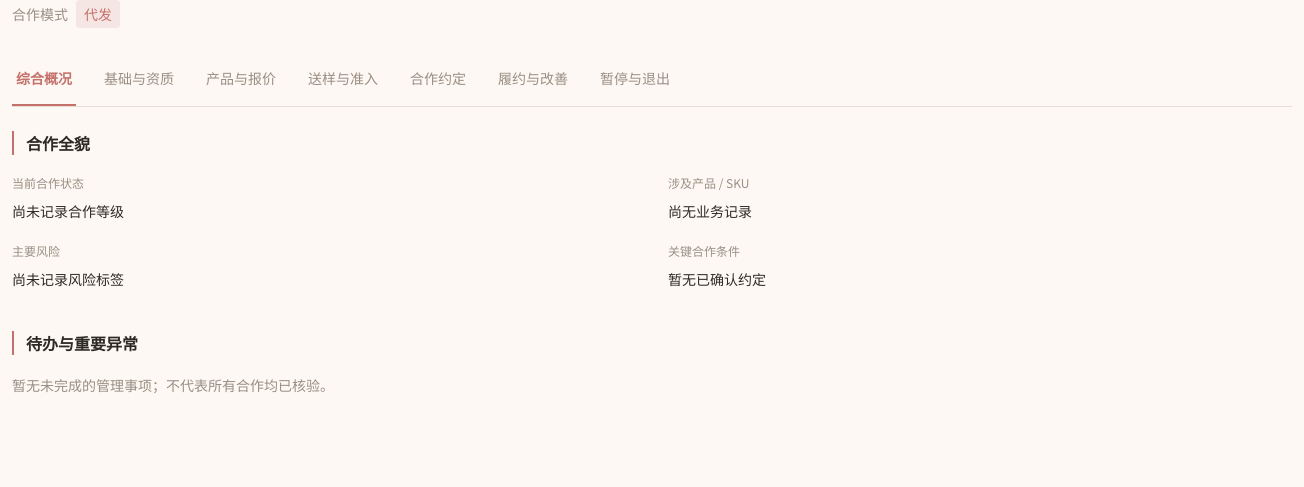
shows routed product-period facts in the assigned supplier dropship section
Click the button "履约与改善": (533,79) [494,52,572,106]
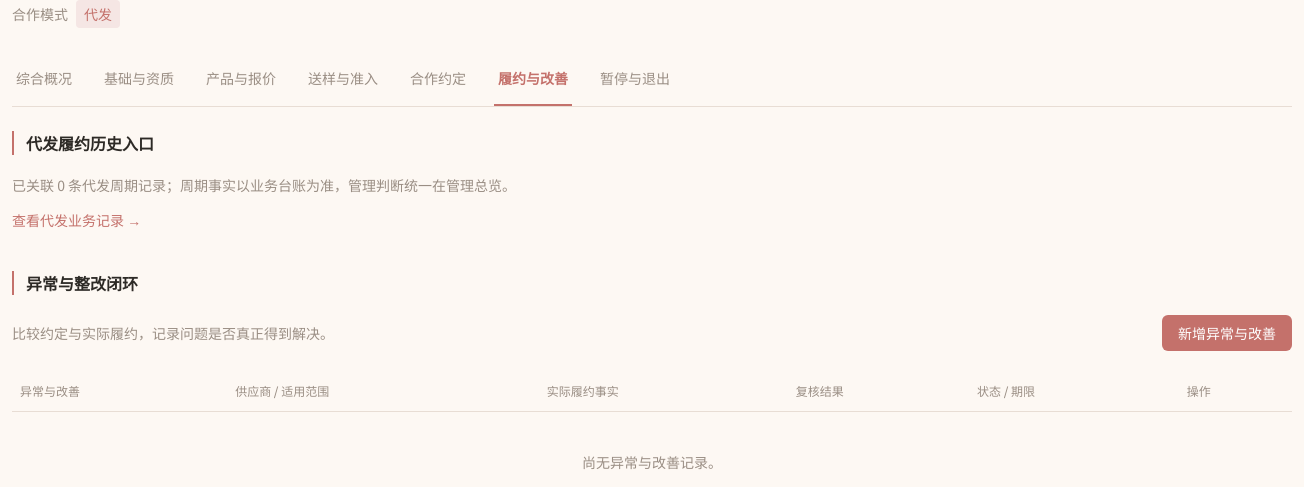
Expected: the link "查看代发业务记录 →" is shown, [12,210,141,230]
